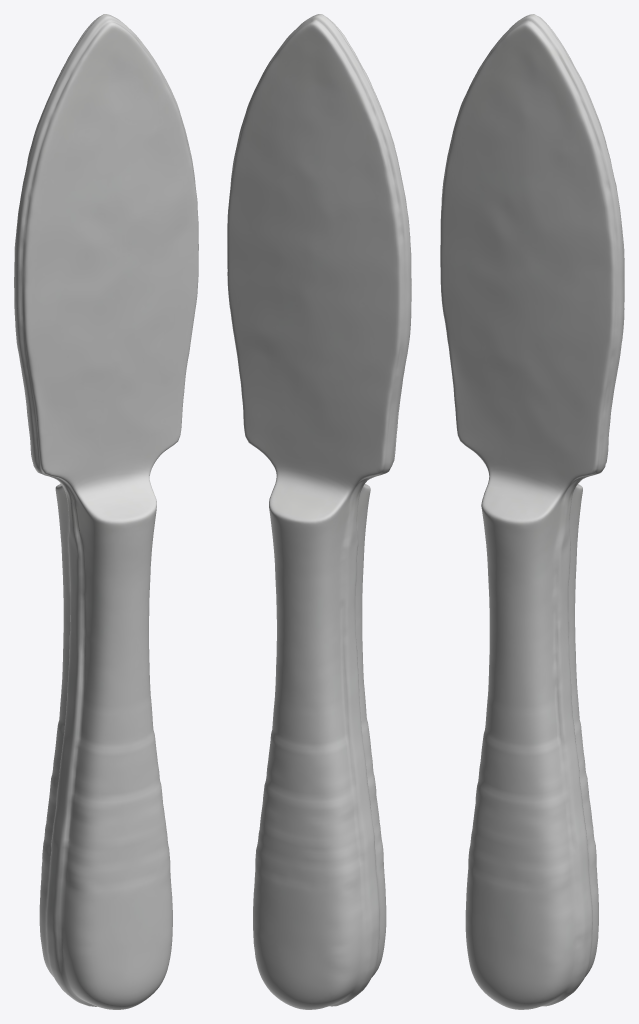
File: model_fish_serving_knife.glb
3 renders of one model, left to right at view 1: azimuth 30°, elevation 25°; view 2: azimuth 150°, elevation 25°; view 3: azimuth 330°, elevation 25°, orthographic.
Parts seen in each view (by area): view 1: tripo_node_8729d2ad-993e-4eb5-a613-f5e2f916759a; view 2: tripo_node_8729d2ad-993e-4eb5-a613-f5e2f916759a; view 3: tripo_node_8729d2ad-993e-4eb5-a613-f5e2f916759a.
Boxes of the visible parts, x1=… form: tripo_node_8729d2ad-993e-4eb5-a613-f5e2f916759a: x1=14, y1=14, x2=198, y2=1009; tripo_node_8729d2ad-993e-4eb5-a613-f5e2f916759a: x1=227, y1=14, x2=411, y2=1009; tripo_node_8729d2ad-993e-4eb5-a613-f5e2f916759a: x1=440, y1=14, x2=624, y2=1009.
Size of the model in its own units: 0.1905 by 0.9992 by 0.1053.
Materials: 1 (1 with a texture image).
